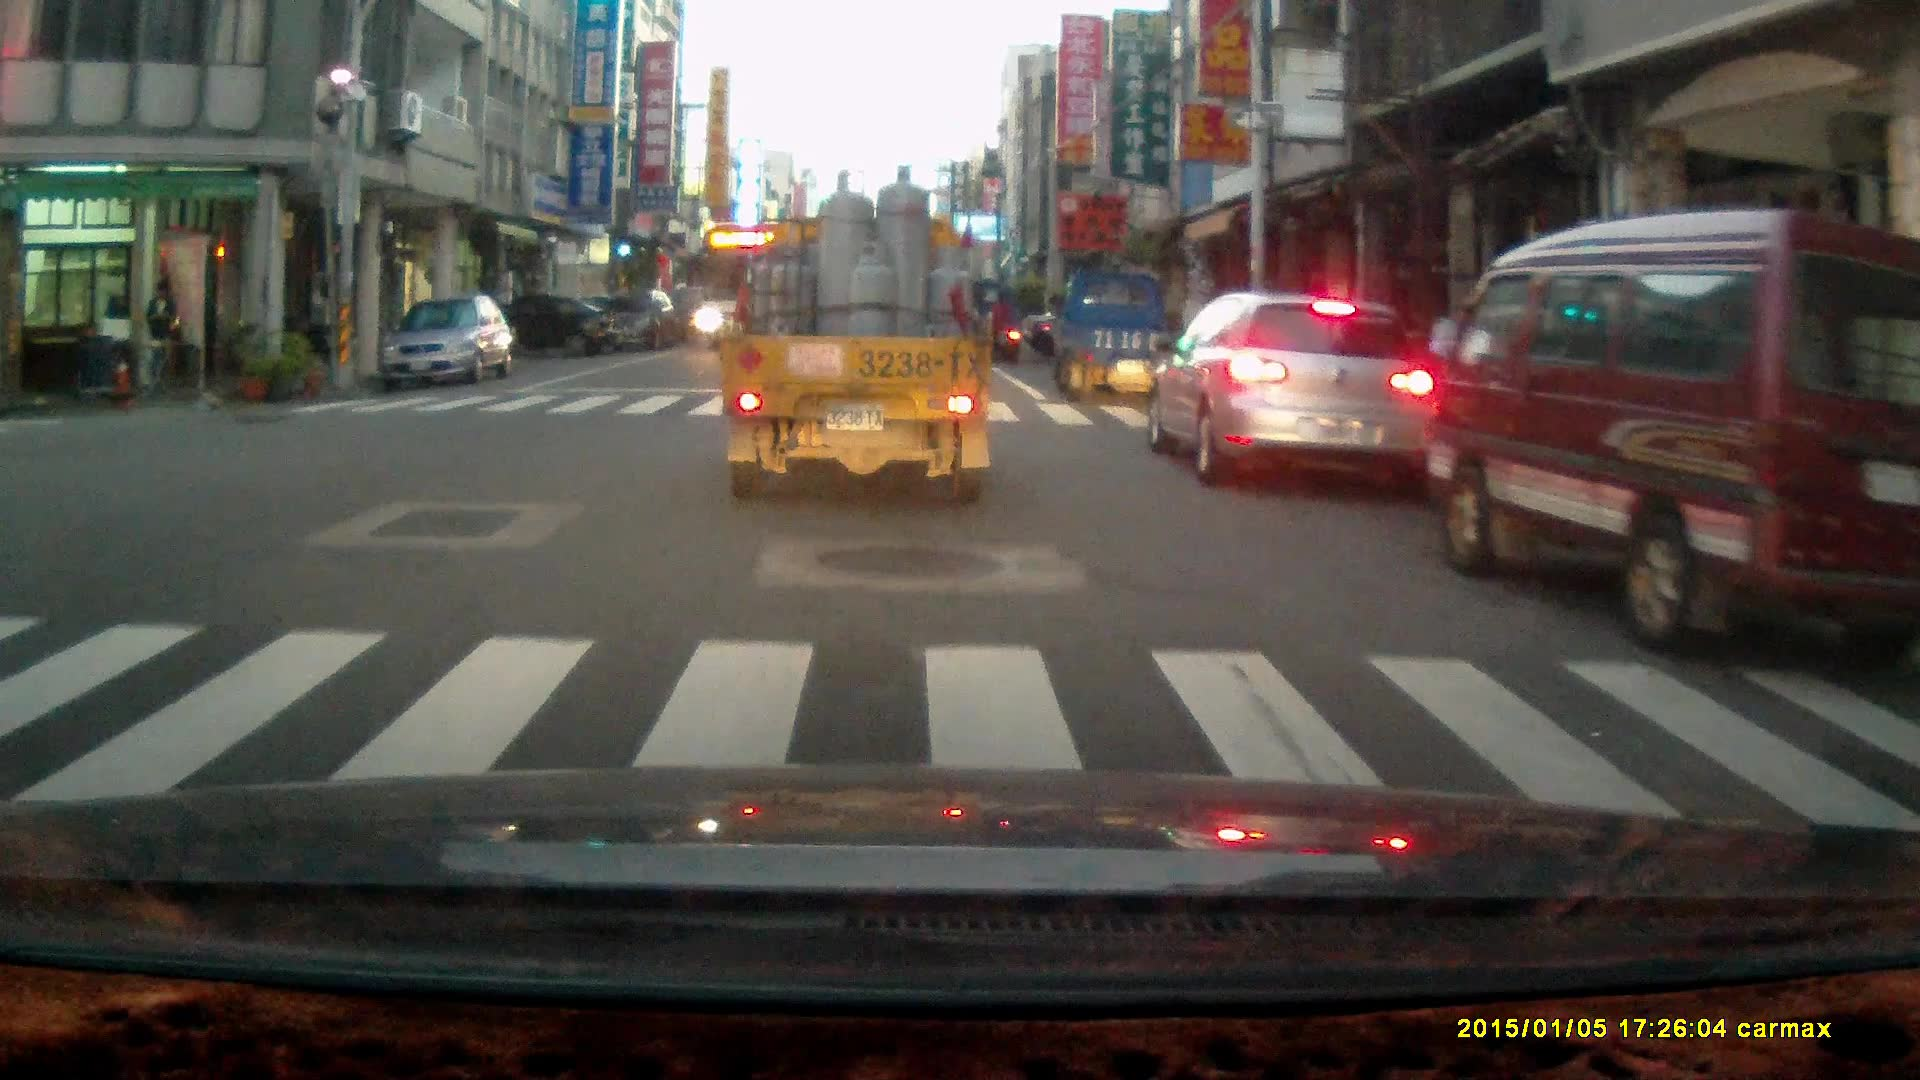pedestrian: (142, 277, 179, 399)
vehicle: (1426, 208, 1920, 664), (721, 168, 995, 511), (1149, 288, 1431, 494), (1053, 272, 1194, 411), (376, 295, 513, 388), (456, 293, 619, 362), (582, 283, 675, 351)
